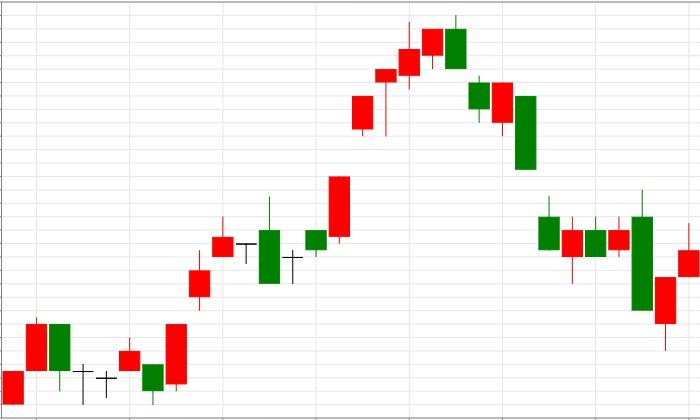bearish_engulfing_fall: (329, 16, 466, 244)
